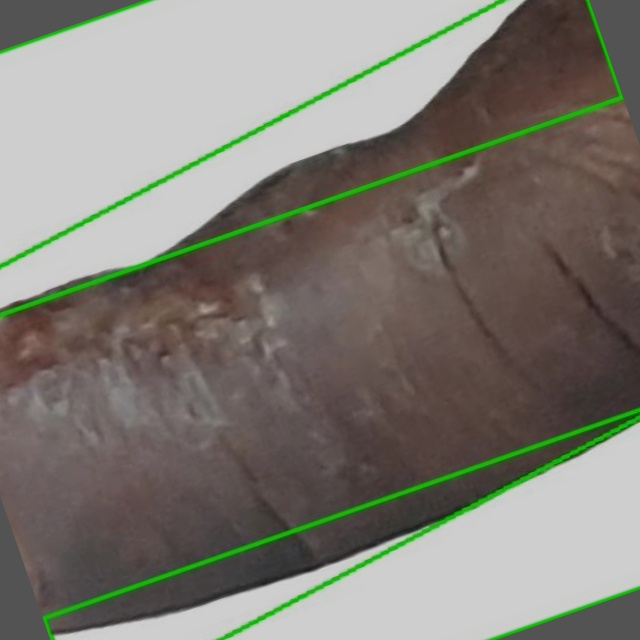Eczema: (0, 0, 639, 639), (0, 0, 622, 314)
